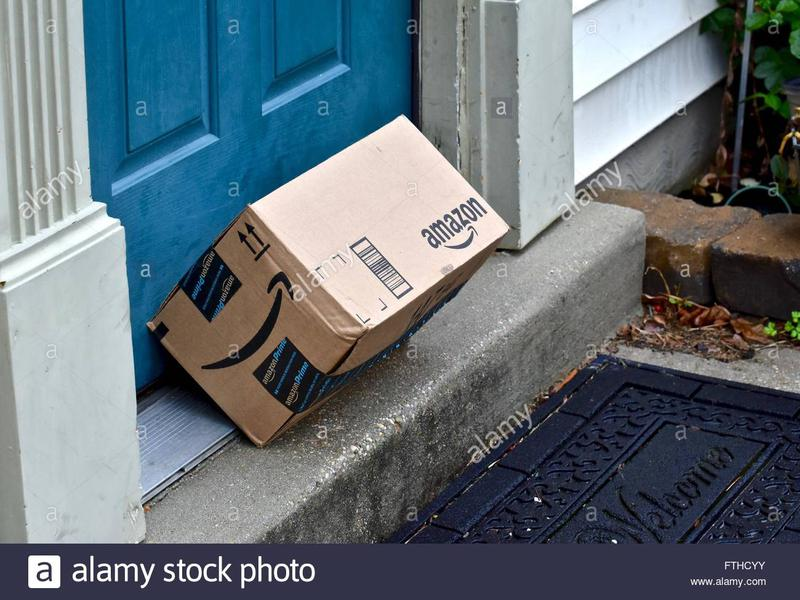package: (129, 103, 522, 457)
